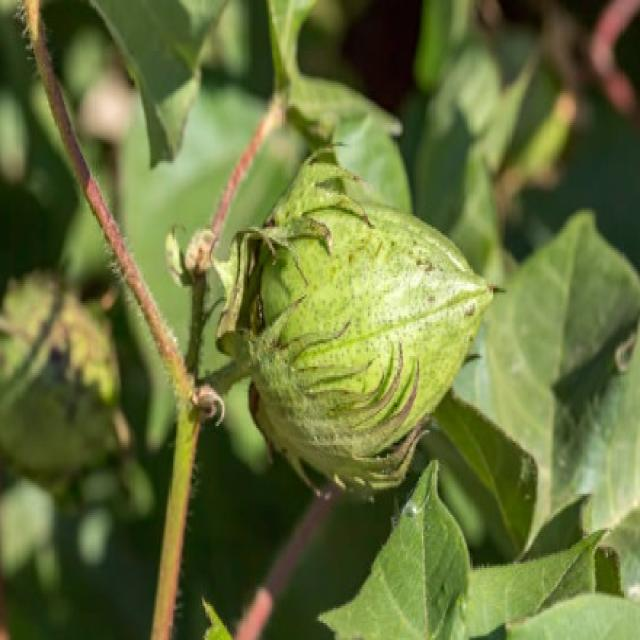Early Boll: (232, 182, 488, 489)
